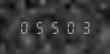five: (33, 20, 47, 34), (48, 20, 62, 34)
three: (78, 20, 92, 34)
zero: (18, 20, 32, 34), (63, 20, 77, 34)
